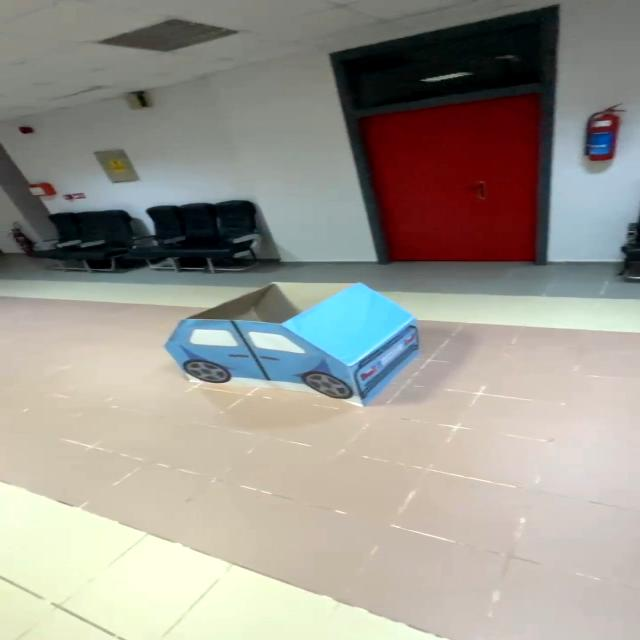blue_car: (135, 269, 441, 434)
